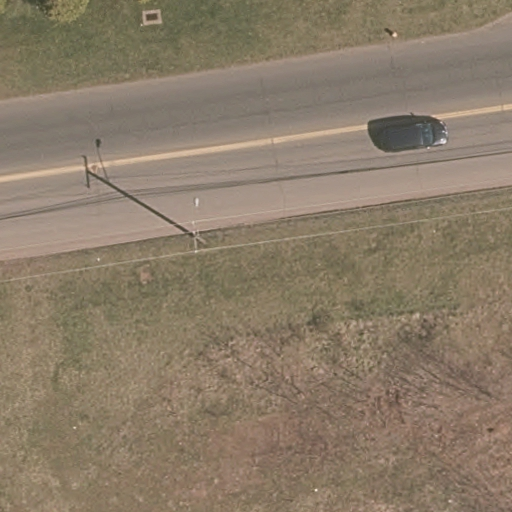DT: (182, 213, 215, 262)
